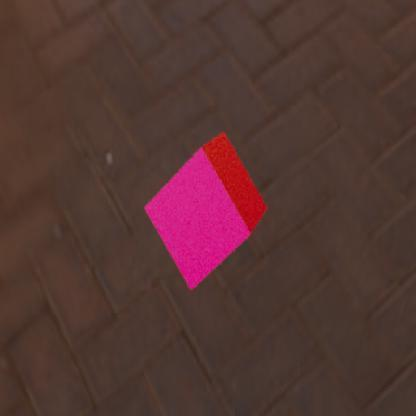red_cube: (145, 130, 266, 290)
